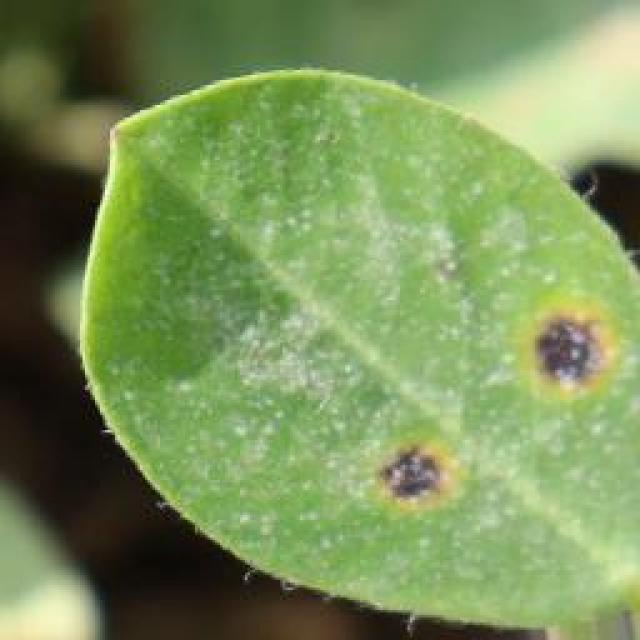Sigatoka: (489, 289, 607, 436), (372, 431, 474, 515)
